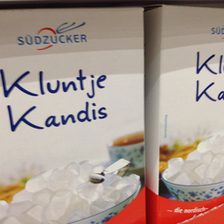tomato_sauce: (1, 4, 148, 223), (144, 2, 224, 220)
